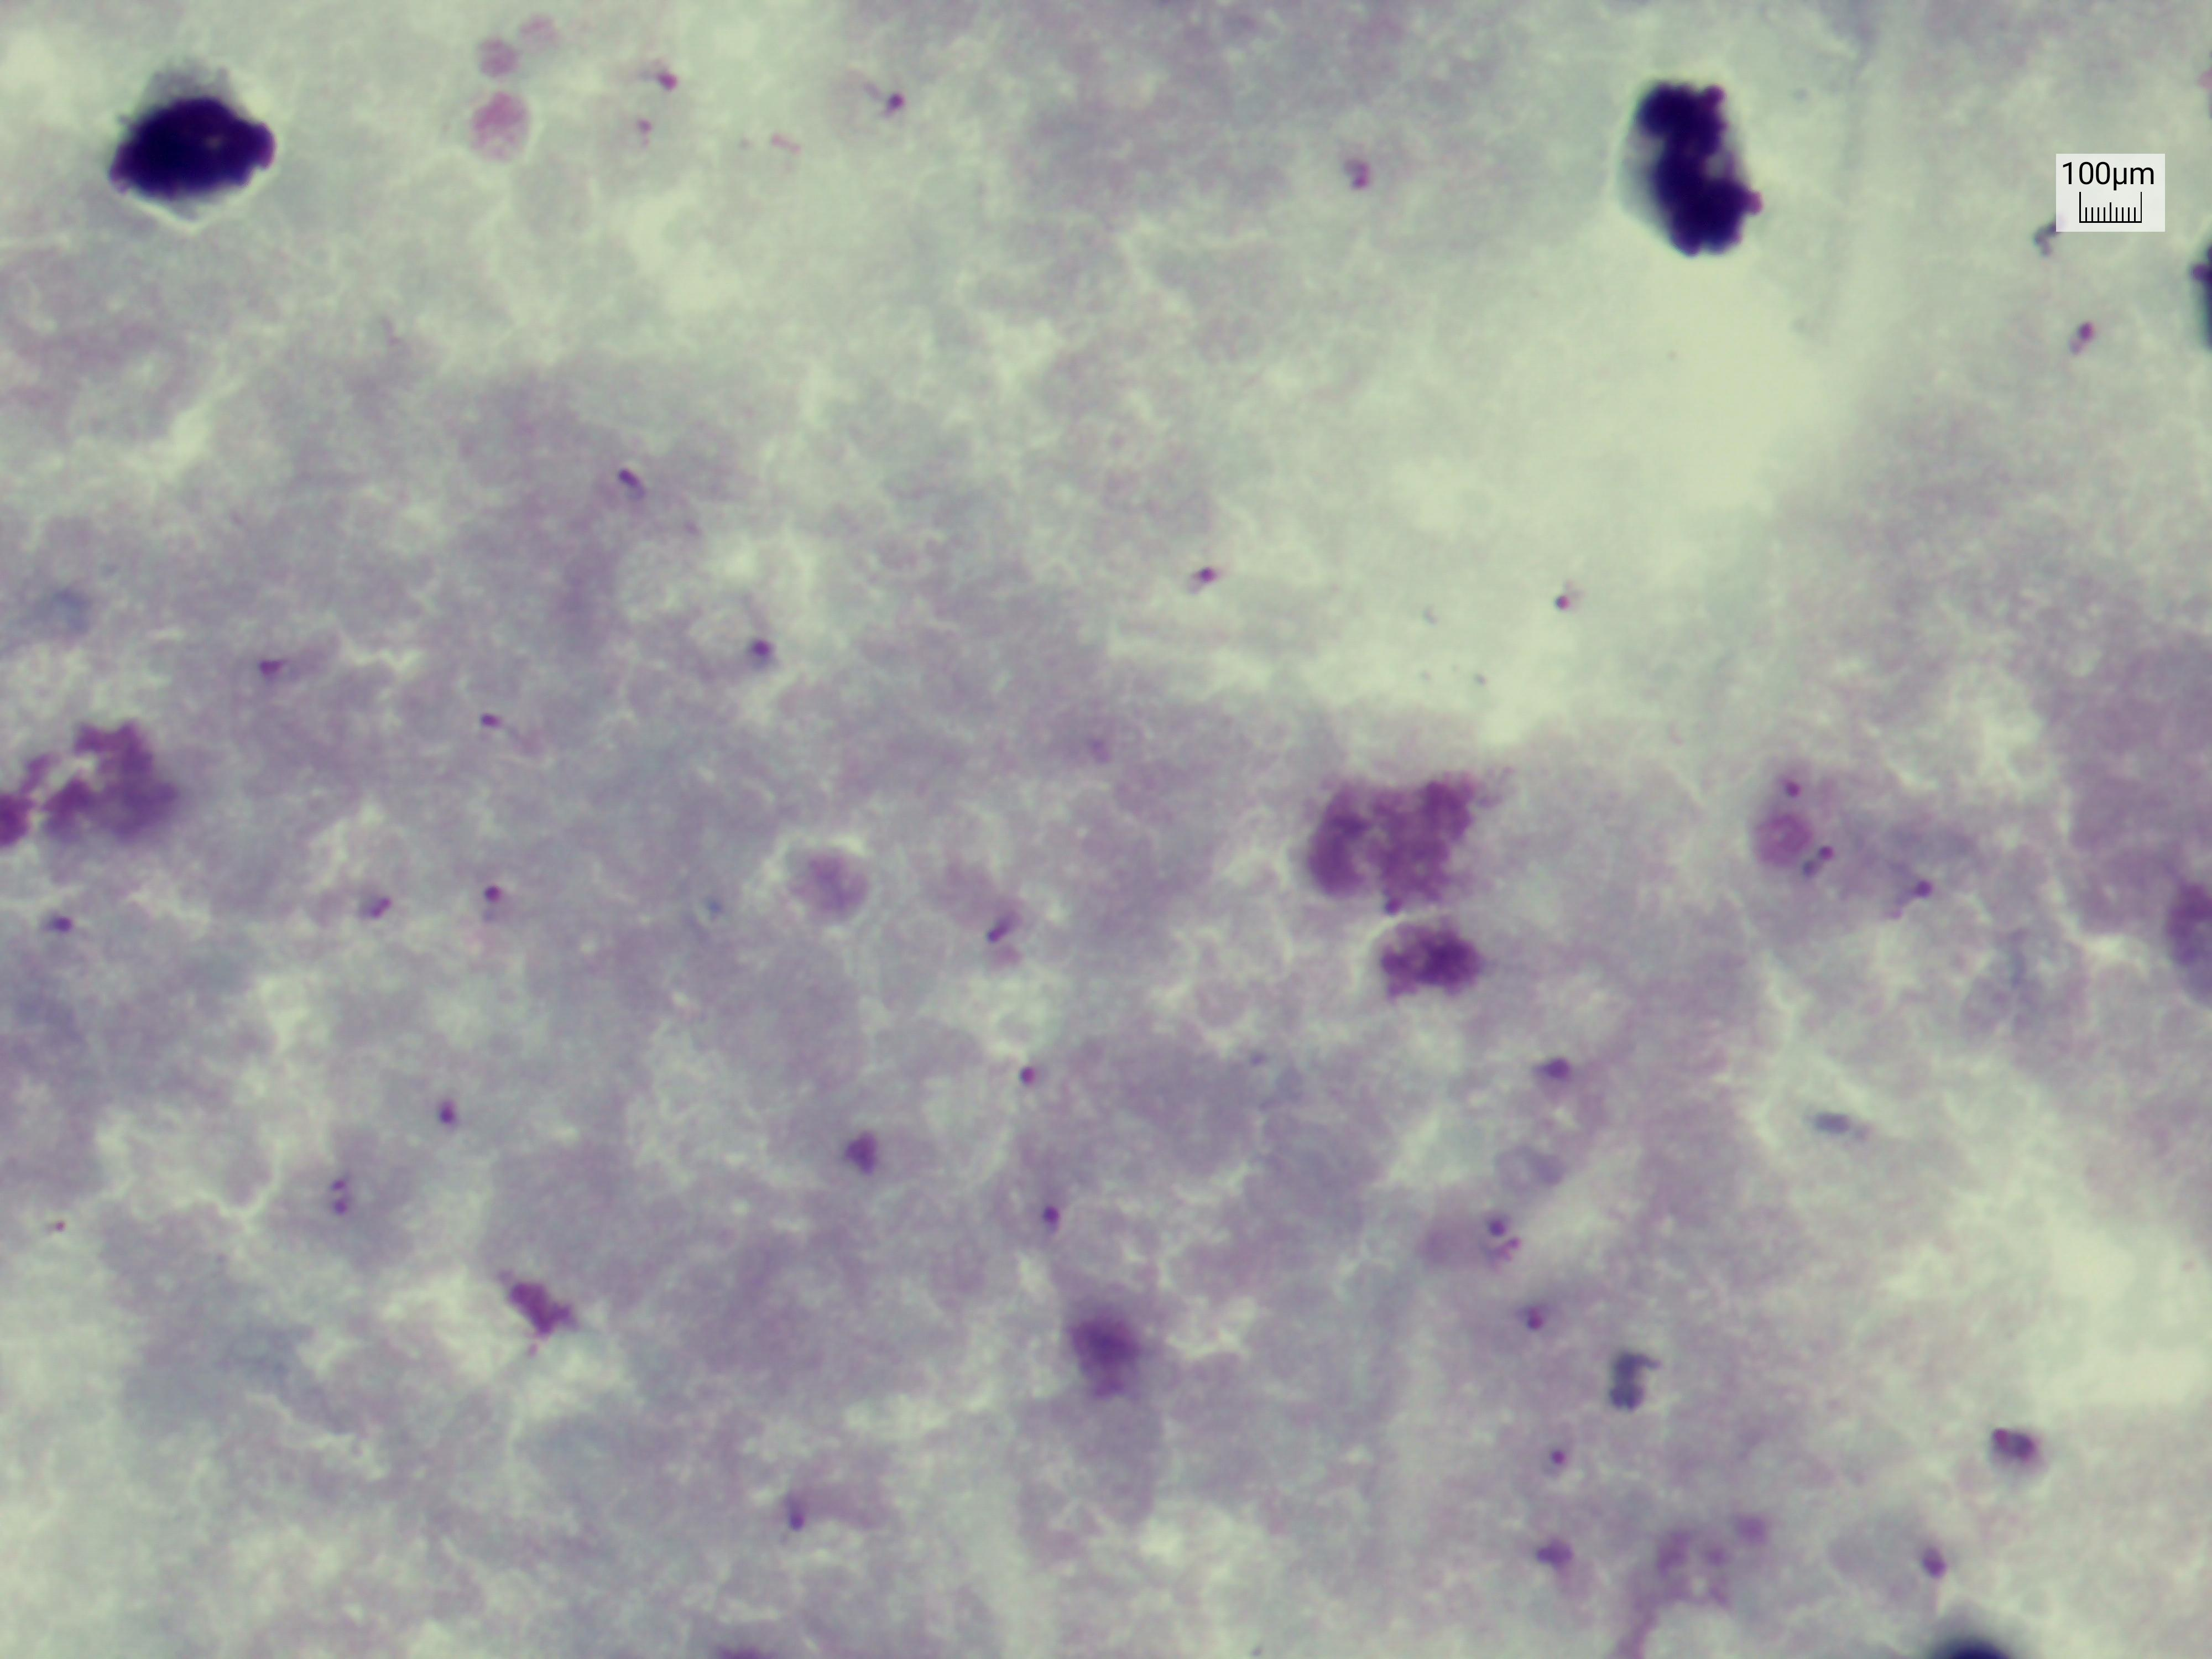p.falciparum: (1745, 755, 1844, 906), (592, 47, 688, 159), (1515, 1023, 1611, 1126), (453, 687, 535, 788), (592, 434, 664, 542), (1902, 1527, 1986, 1615), (1526, 1419, 1616, 1495), (960, 890, 1038, 972), (752, 1464, 834, 1542), (465, 849, 524, 953), (1463, 1190, 1531, 1279), (235, 641, 314, 716), (1324, 136, 1393, 216), (1501, 1286, 1564, 1373), (354, 857, 420, 938), (855, 73, 923, 150), (307, 1162, 378, 1230), (1021, 1168, 1073, 1256), (1881, 843, 1944, 915), (2047, 305, 2120, 364), (1534, 559, 1597, 627), (418, 1084, 474, 1159), (1176, 532, 1221, 619), (23, 903, 96, 955), (1007, 1054, 1075, 1110), (730, 636, 784, 694)
